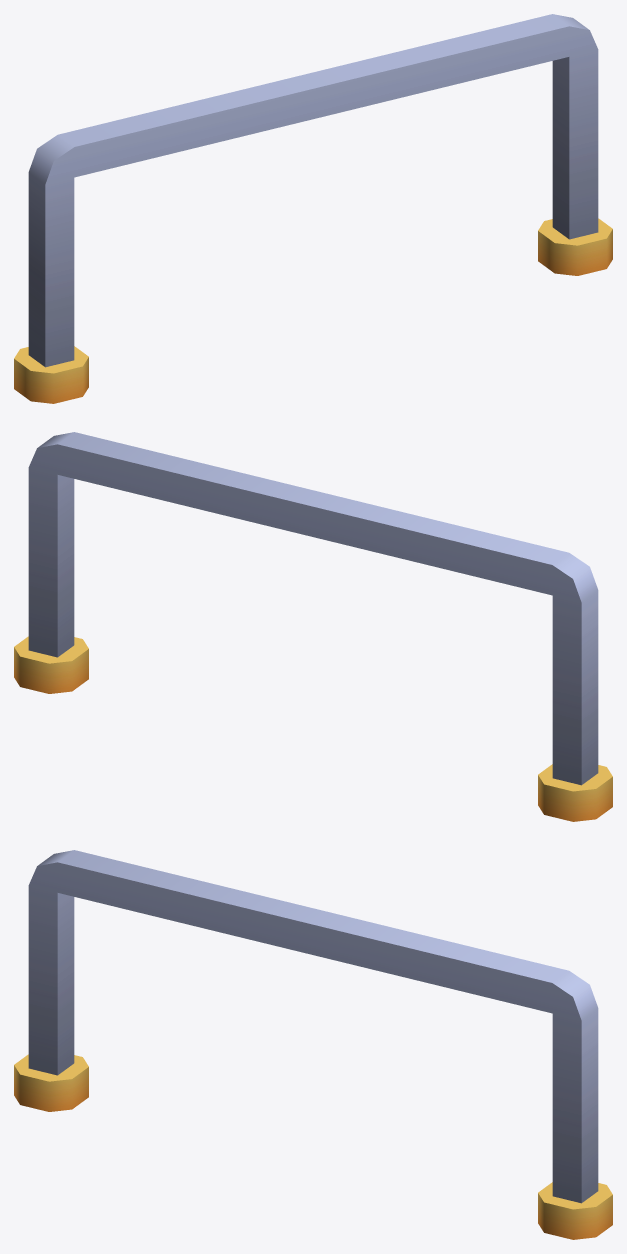
File: rail.glb
3 renders of one model, top to bottom at view 1: azimuth 30°, elevation 25°; view 2: azimuth 150°, elevation 25°; view 3: azimuth 330°, elevation 25°, orthographic.
Parts seen in each view (by area): view 1: rail; view 2: rail; view 3: rail.
Part boxes in pixels (box(x1,y1,x2,y2)): rail: box(14, 14, 612, 403); rail: box(14, 432, 612, 821); rail: box(14, 850, 612, 1239).
Bounding box in the file's own units: 1 × 0.3999 × 0.1.
1 material, 1 textured.
